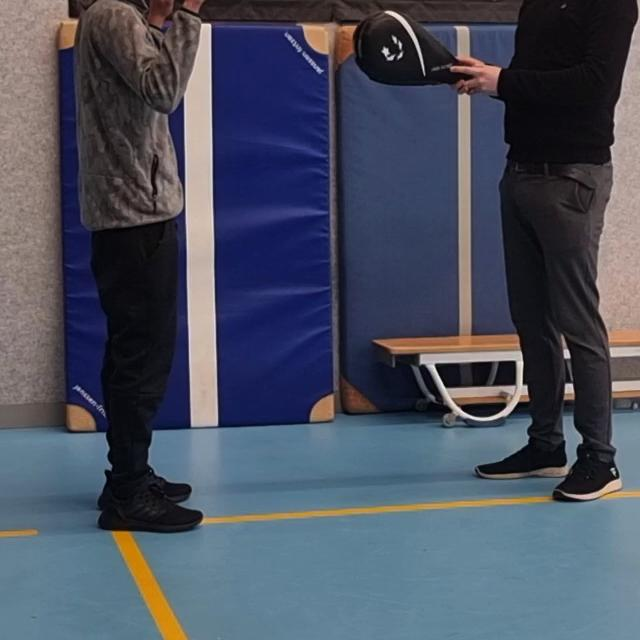paddle: (352, 11, 468, 86)
